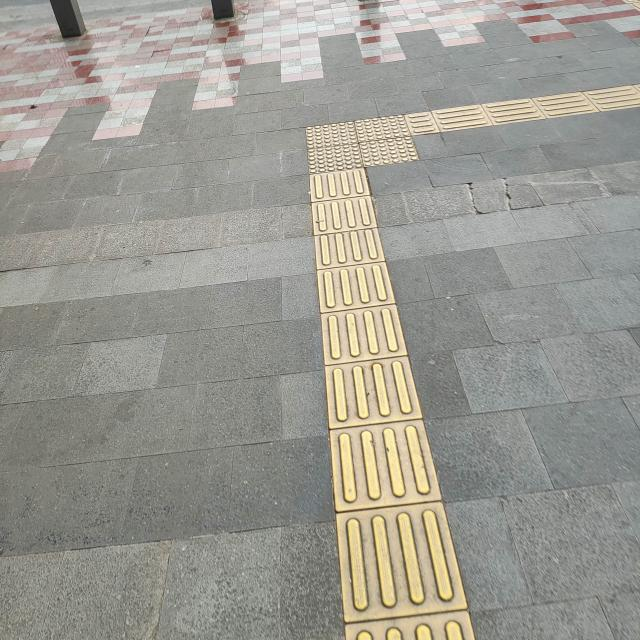kanan: (274, 89, 496, 193)
